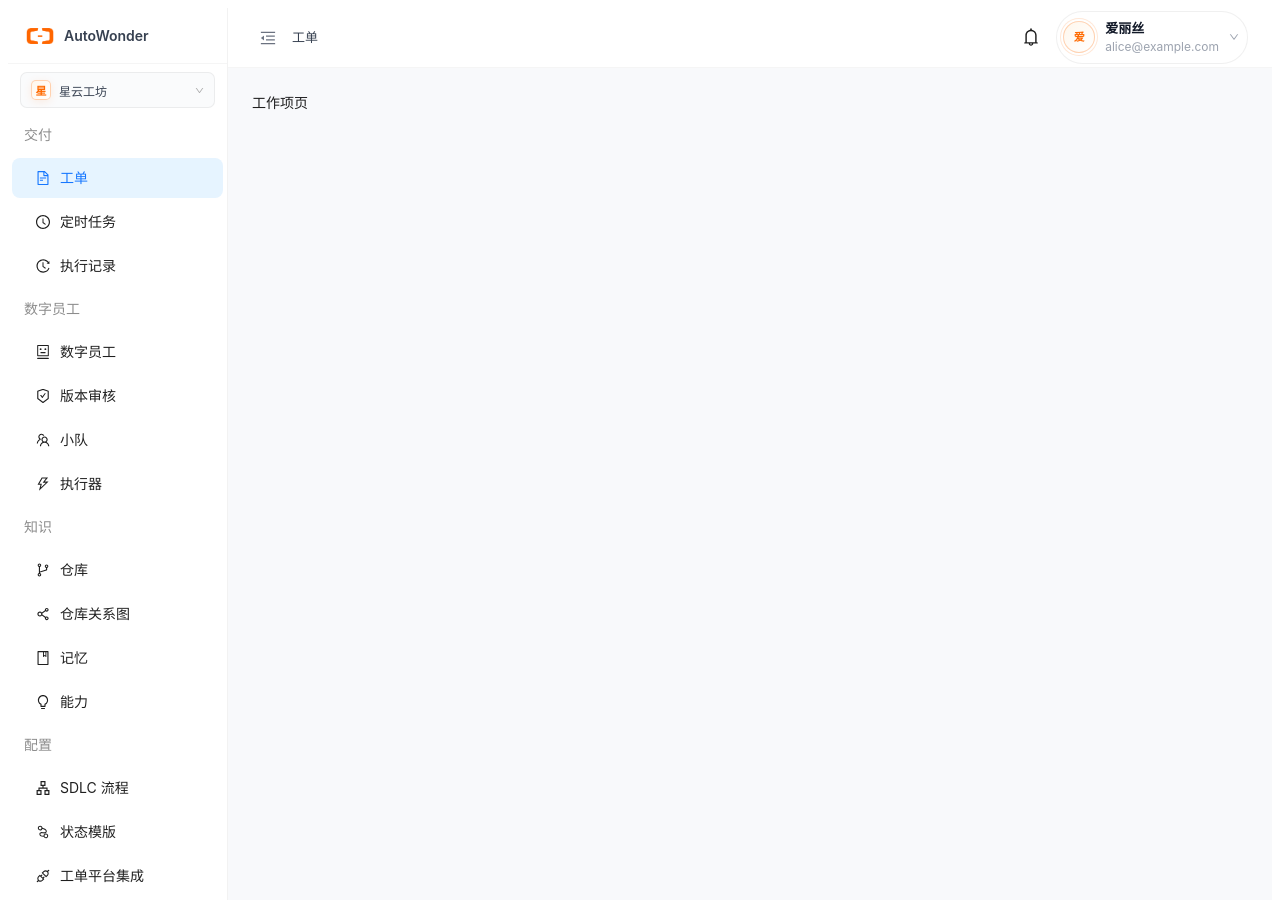
AppLayout › removes the legacy "切换工作空间" menu item from the user dropdown
The width and height of the screenshot is (1280, 900).
Step 1. Click the text "爱丽丝" → click(1125, 28), box [1105,20,1144,36]
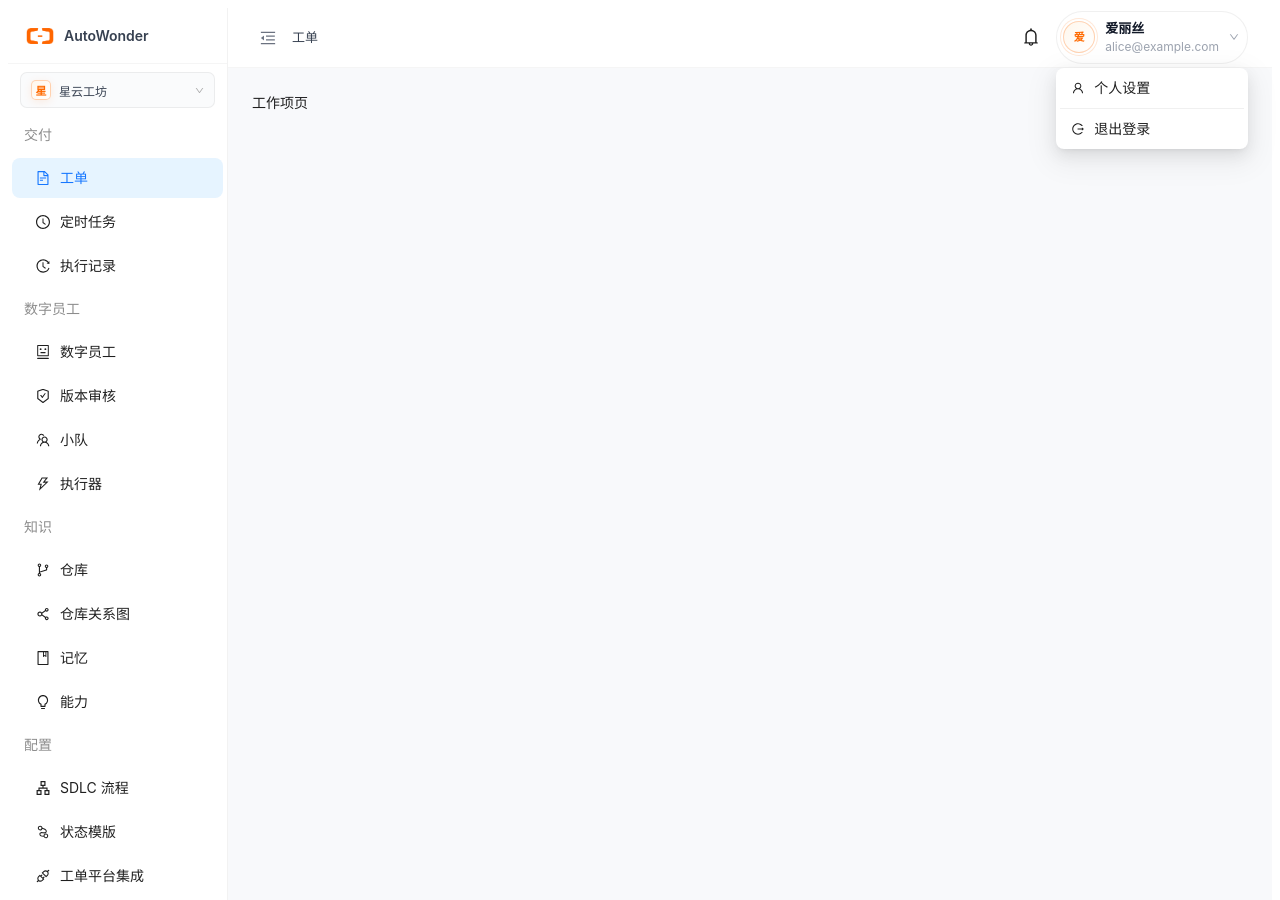
Check: the text "个人设置" is shown, box [1094,79,1150,96]
Check: the text "退出登录" is shown, box [1094,120,1150,137]
